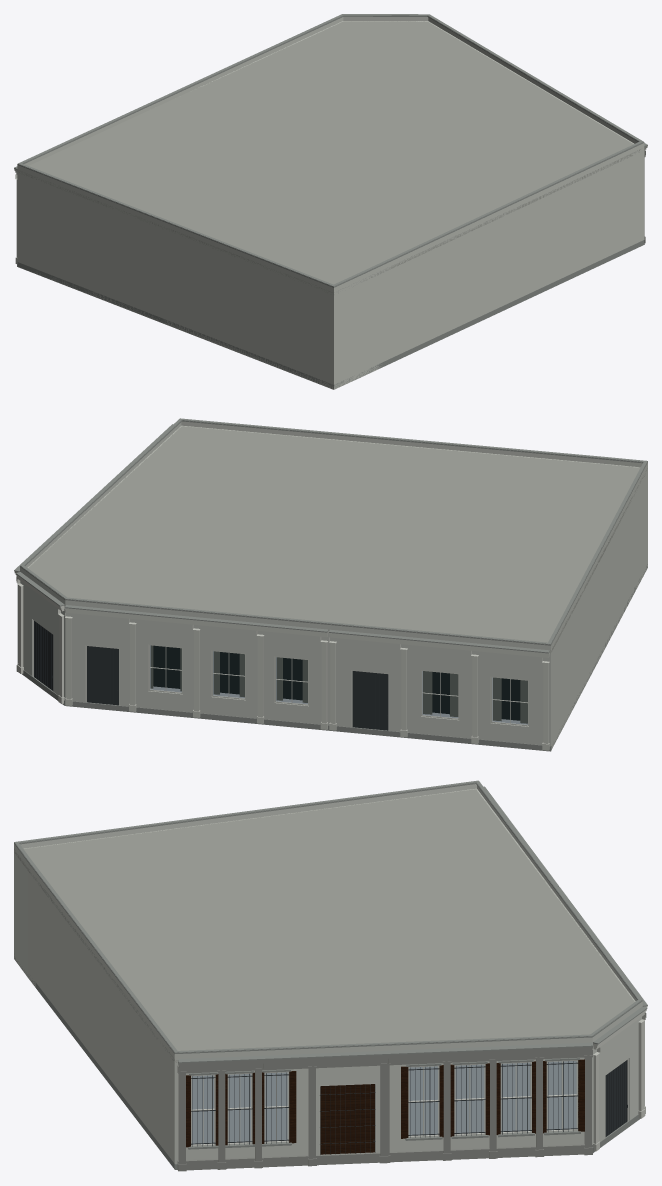
Rendered from building.glb.
The picture shows the model from 3 angles, top to bottom: view 1: azimuth 30°, elevation 25°; view 2: azimuth 150°, elevation 25°; view 3: azimuth 270°, elevation 25°; orthographic projection. The views are drawn at different scales.
Visible parts, largest first — view 1: roof/bank:0/roof_slab#0001, bank:0/edge0/z0/bank:0/edge0/z0/wall_0_0, bank:0/edge3/z0/bank:0/edge3/z0/wall_0_0, roof/bank:0/parapet#0001, roof/bank:0/parapet_cap#0002, bank:0/edge1/z0/bank:0/edge1/z0/wall_0_0, roof/bank:0/parapet_cap#0001, bank:0/edge0/z0/plinth#0001, bank:0/edge3/z0/plinth#0001, bank:0/edge2/z0/bank:0/edge2/z0/wall_0_0; view 2: roof/bank:0/roof_slab#0001, bank:0/edge0/z0/bank:0/edge0/z0/wall_0_0, roof/bank:0/parapet#0001, bank:0/edge7/z0/bank:0/edge7/z0/wall_0_0/clip12, bank:0/edge8/z0/bank:0/edge8/z0/wall_0_0/clip10, roof/bank:0/parapet_cap#0002, bank:0/edge7/z0/bank:0/edge7/z0/wall_0_0/clip2, bank:0/edge8/z0/bank:0/edge8/z0/wall_0_0/clip2, roof/bank:0/parapet_cap#0001, bank:0/edge6/z0/bank:0/edge6/z0/wall_0_0, bank:0/edge8/z0/opening_u1.08_v0.05/door_leaf#0001, bank:0/edge7/z0/opening_u1.00_v0.05/door_leaf#0001 (+40 smaller); view 3: roof/bank:0/roof_slab#0001, bank:0/edge3/z0/bank:0/edge3/z0/wall_0_0, bank:0/edge5/z0/bank:0/edge5/z0/wall_0_0, roof/bank:0/parapet#0001, roof/bank:0/parapet_cap#0002, bank:0/edge5/z0/proj_panel_19/facade_projection_panel#0001, bank:0/edge5/z0/opening_u6.29_v0.04/door_leaf#0001, bank:0/edge5/z0/proj_panel_20/facade_projection_panel#0001, bank:0/edge6/z0/bank:0/edge6/z0/wall_0_0, roof/bank:0/parapet_cap#0001, bank:0/edge5/z0/proj_cornice_21/cornice_drip#0001, bank:0/edge5/z0/opening_u12.31_v1.10/window_panel#0001 (+23 smaller).
Part boxes in pixels (left/top/right/bottom): roof/bank:0/roof_slab#0001: left=17, top=21, right=640, bottom=294; bank:0/edge0/z0/bank:0/edge0/z0/wall_0_0: left=17, top=169, right=333, bottom=389; bank:0/edge3/z0/bank:0/edge3/z0/wall_0_0: left=376, top=147, right=644, bottom=369; roof/bank:0/parapet#0001: left=17, top=16, right=644, bottom=292; roof/bank:0/parapet_cap#0002: left=18, top=14, right=643, bottom=286; bank:0/edge1/z0/bank:0/edge1/z0/wall_0_0: left=334, top=279, right=361, bottom=389; roof/bank:0/parapet_cap#0001: left=17, top=15, right=644, bottom=287; bank:0/edge0/z0/plinth#0001: left=17, top=262, right=333, bottom=389; bank:0/edge3/z0/plinth#0001: left=376, top=240, right=644, bottom=369; bank:0/edge2/z0/bank:0/edge2/z0/wall_0_0: left=362, top=273, right=376, bottom=376; roof/bank:0/roof_slab#0001: left=28, top=426, right=647, bottom=652; bank:0/edge0/z0/bank:0/edge0/z0/wall_0_0: left=551, top=467, right=647, bottom=749; roof/bank:0/parapet#0001: left=20, top=421, right=647, bottom=650; bank:0/edge7/z0/bank:0/edge7/z0/wall_0_0/clip12: left=65, top=605, right=329, bottom=661; bank:0/edge8/z0/bank:0/edge8/z0/wall_0_0/clip10: left=329, top=629, right=550, bottom=681; roof/bank:0/parapet_cap#0002: left=20, top=418, right=647, bottom=644; bank:0/edge7/z0/bank:0/edge7/z0/wall_0_0/clip2: left=120, top=688, right=329, bottom=725; bank:0/edge8/z0/bank:0/edge8/z0/wall_0_0/clip2: left=389, top=714, right=550, bottom=745; roof/bank:0/parapet_cap#0001: left=20, top=420, right=647, bottom=645; bank:0/edge6/z0/bank:0/edge6/z0/wall_0_0: left=20, top=581, right=65, bottom=700; bank:0/edge8/z0/opening_u1.08_v0.05/door_leaf#0001: left=352, top=671, right=388, bottom=730; bank:0/edge7/z0/opening_u1.00_v0.05/door_leaf#0001: left=87, top=646, right=118, bottom=705; roof/bank:0/roof_slab#0001: left=14, top=789, right=634, bottom=1062; bank:0/edge3/z0/bank:0/edge3/z0/wall_0_0: left=35, top=878, right=174, bottom=1163; bank:0/edge5/z0/bank:0/edge5/z0/wall_0_0: left=177, top=1057, right=592, bottom=1160; roof/bank:0/parapet#0001: left=14, top=784, right=642, bottom=1059; roof/bank:0/parapet_cap#0002: left=14, top=780, right=641, bottom=1052; bank:0/edge5/z0/proj_panel_19/facade_projection_panel#0001: left=177, top=1144, right=592, bottom=1170; bank:0/edge5/z0/opening_u6.29_v0.04/door_leaf#0001: left=320, top=1084, right=374, bottom=1154; bank:0/edge5/z0/proj_panel_20/facade_projection_panel#0001: left=177, top=1049, right=592, bottom=1073; bank:0/edge6/z0/bank:0/edge6/z0/wall_0_0: left=592, top=1017, right=641, bottom=1144; roof/bank:0/parapet_cap#0001: left=14, top=783, right=642, bottom=1053; bank:0/edge5/z0/proj_cornice_21/cornice_drip#0001: left=178, top=1042, right=592, bottom=1063; bank:0/edge5/z0/opening_u12.31_v1.10/window_panel#0001: left=455, top=1064, right=484, bottom=1133.
Size of the model in its own units: 28.91 by 5.72 by 28.08.
Materials: 10 (1 with a texture image).
